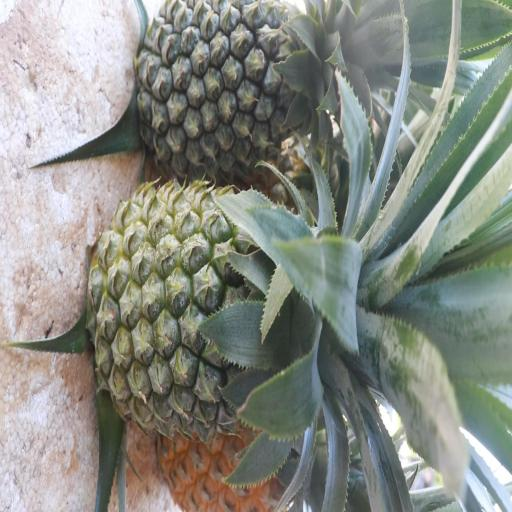------------------------------: (92, 193, 328, 428)
Pineapple - v8 v1: (159, 412, 303, 512)
